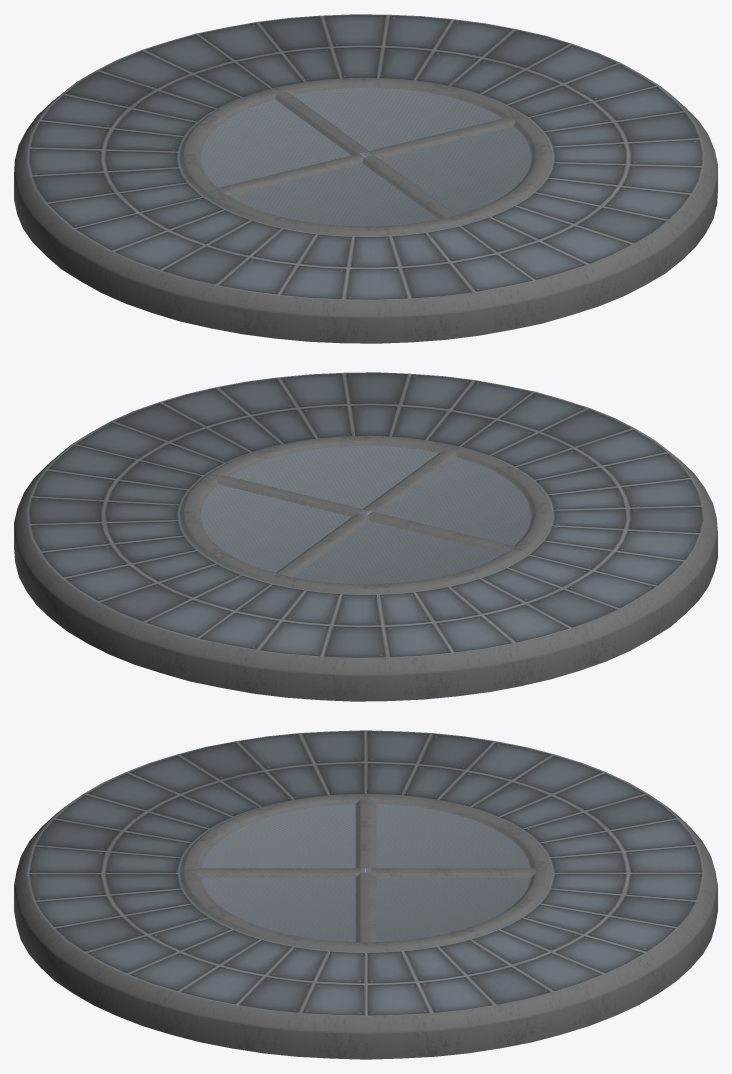
The model's file is CenterFloor.FBX.
3 renders of one model, top to bottom at view 1: azimuth 30°, elevation 25°; view 2: azimuth 150°, elevation 25°; view 3: azimuth 270°, elevation 25°, orthographic.
Parts seen in each view (by area): view 1: ChaoCentro, Object003; view 2: ChaoCentro, Object003; view 3: ChaoCentro, Object003.
Part boxes in pixels (bbox=[...]): ChaoCentro: bbox=[14, 14, 717, 343]; Object003: bbox=[216, 91, 515, 218]; ChaoCentro: bbox=[14, 372, 717, 701]; Object003: bbox=[216, 449, 514, 576]; ChaoCentro: bbox=[14, 730, 717, 1059]; Object003: bbox=[195, 798, 536, 942].
Size of the model in its own units: 1700 by 108 by 1700.
